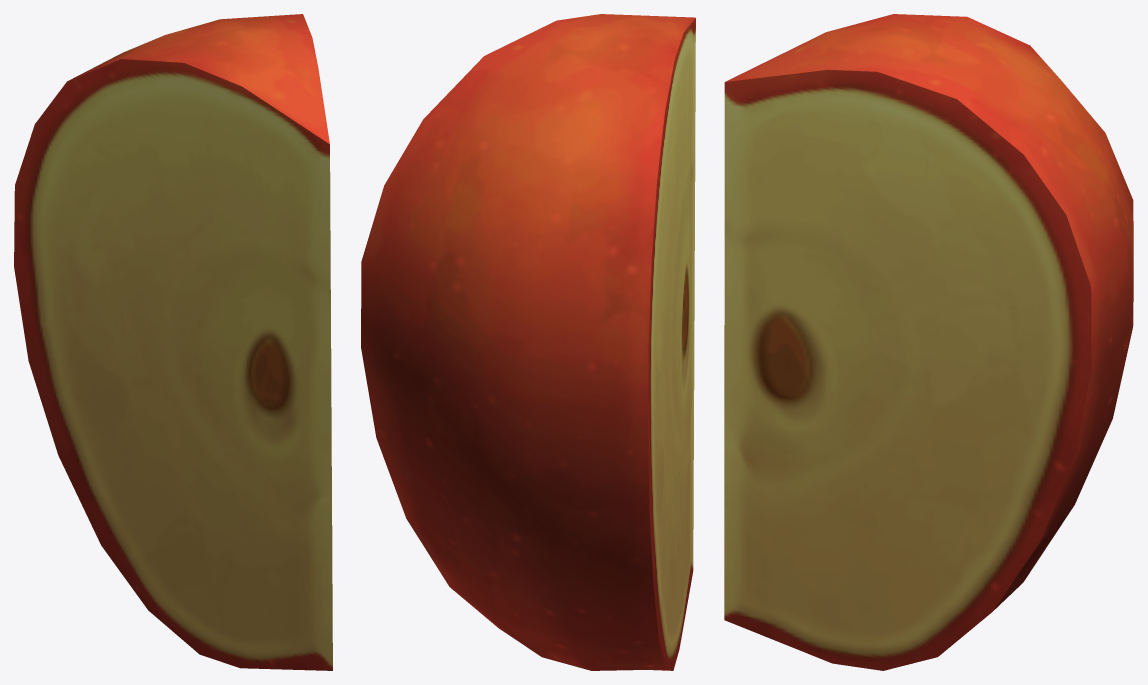
Rendered from SM_AppleRedSlice.fbx.
3 views of the same model, side by side, from view 1: azimuth 30°, elevation 25°; view 2: azimuth 150°, elevation 25°; view 3: azimuth 270°, elevation 25° (orthographic). The views are drawn at different scales.
Visible parts, largest first — view 1: SM_AppleRedSlice; view 2: SM_AppleRedSlice; view 3: SM_AppleRedSlice.
Boxes of the visible parts, x1,y1,x2,y2 form: SM_AppleRedSlice: [14, 14, 332, 670]; SM_AppleRedSlice: [361, 14, 695, 670]; SM_AppleRedSlice: [724, 14, 1133, 670].
Bounding box in the file's own units: 5.57 × 11.72 × 7.09.
